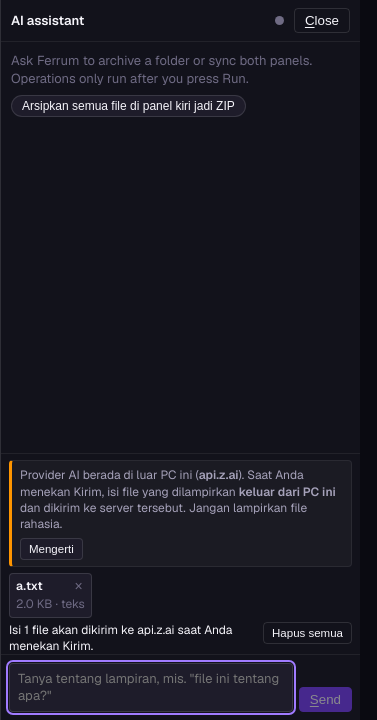
it: ChatPanel attachments (FER-486) › a remote provider shows the one-time disclosure first
The image size is (377, 720).
Check: the element with test id "attach-disclosure" shows "keluar dari PC ini", box left=239, top=484, right=336, bottom=500
Click the button "Mengerti". click: point(51, 549)
box: left=20, top=538, right=83, bottom=560
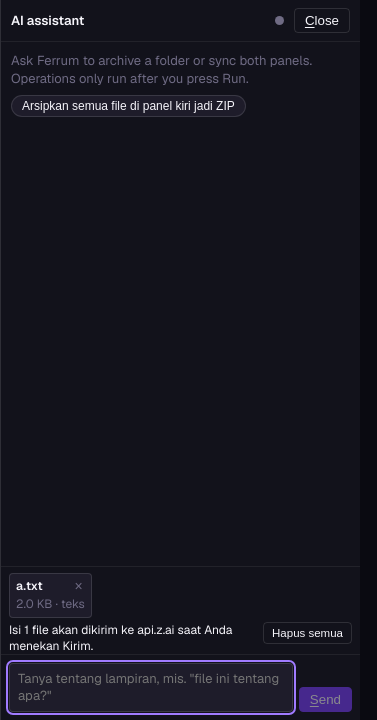
Check: the element with test id "attach-disclosure" is gone
